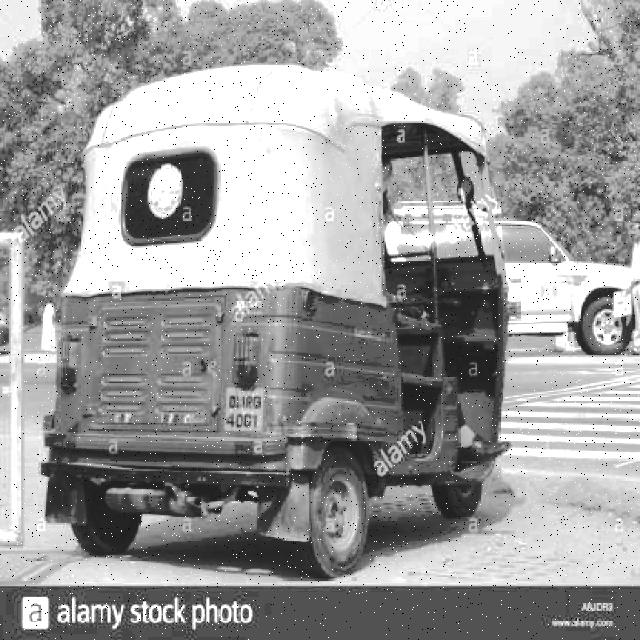Auto-Rickshaw: (41, 57, 518, 583)
